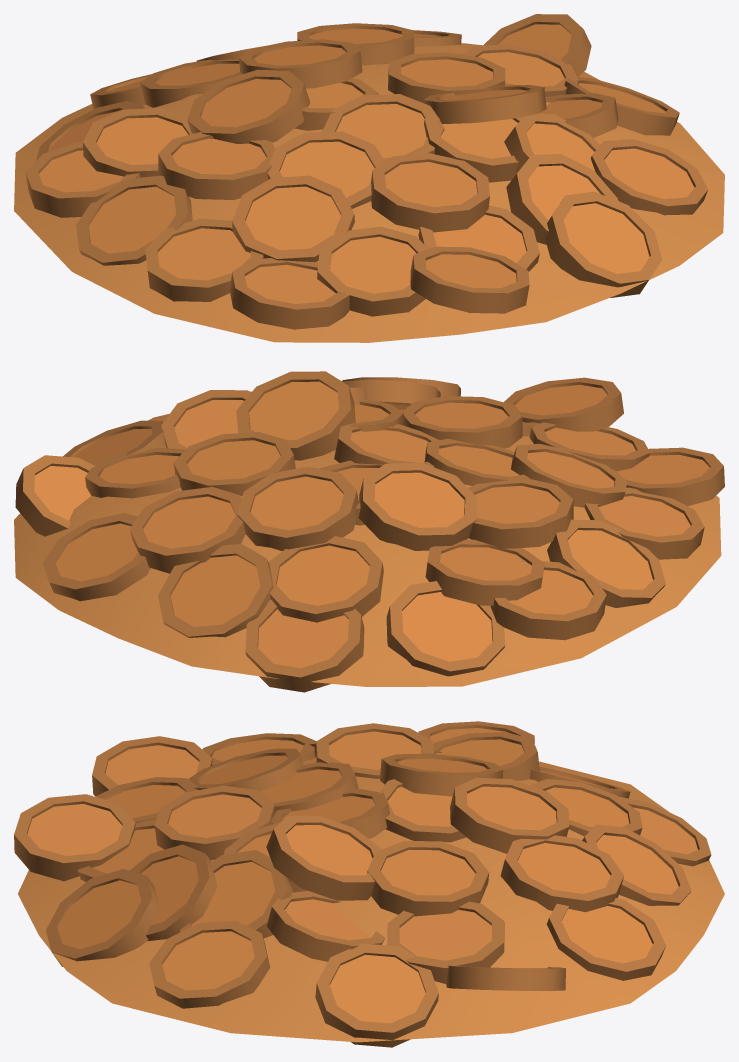
File: Cauldron_01_GoldPile_02.fbx
3 renders of one model, top to bottom at view 1: azimuth 30°, elevation 25°; view 2: azimuth 150°, elevation 25°; view 3: azimuth 270°, elevation 25°, orthographic.
Parts seen in each view (by area): view 1: Cauldron_01_GoldPile_02; view 2: Cauldron_01_GoldPile_02; view 3: Cauldron_01_GoldPile_02.
Part boxes in pixels (x1,y1,x2,y2): Cauldron_01_GoldPile_02: (14,14,724,342); Cauldron_01_GoldPile_02: (14,371,724,692); Cauldron_01_GoldPile_02: (14,721,724,1047).
Size of the model in its own units: 0.249 by 0.0492 by 0.2519.
